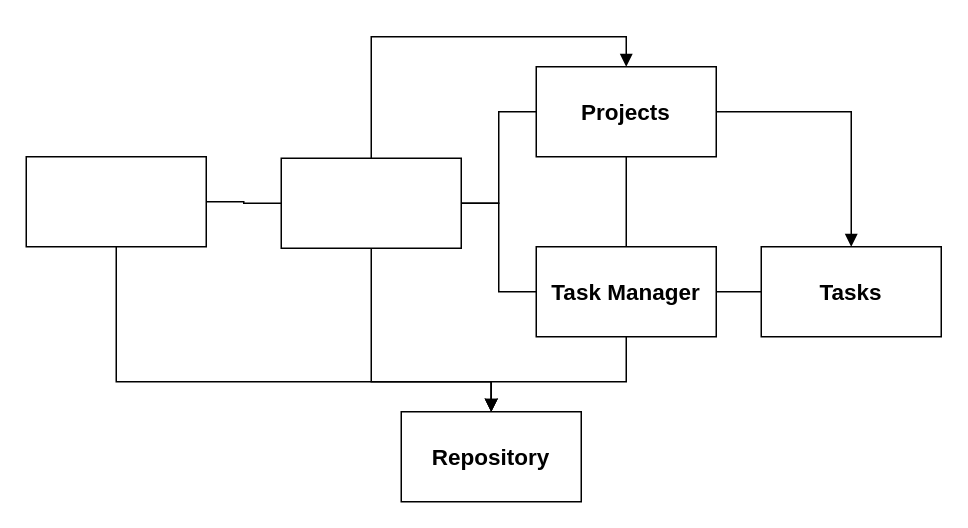
Some shapes in this 968 by 528 pixel diagram are drawn without their labels. Each missing label, with the centre of its shape:
"App" goes at [115,201].
"Lists" goes at [370,202].
